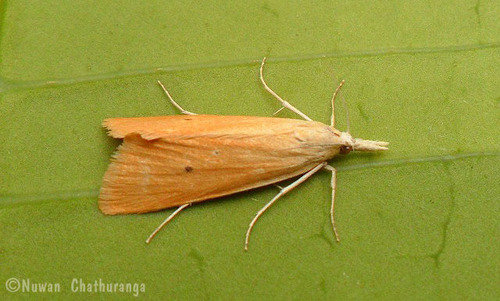Crambidae: (96, 57, 390, 250)
